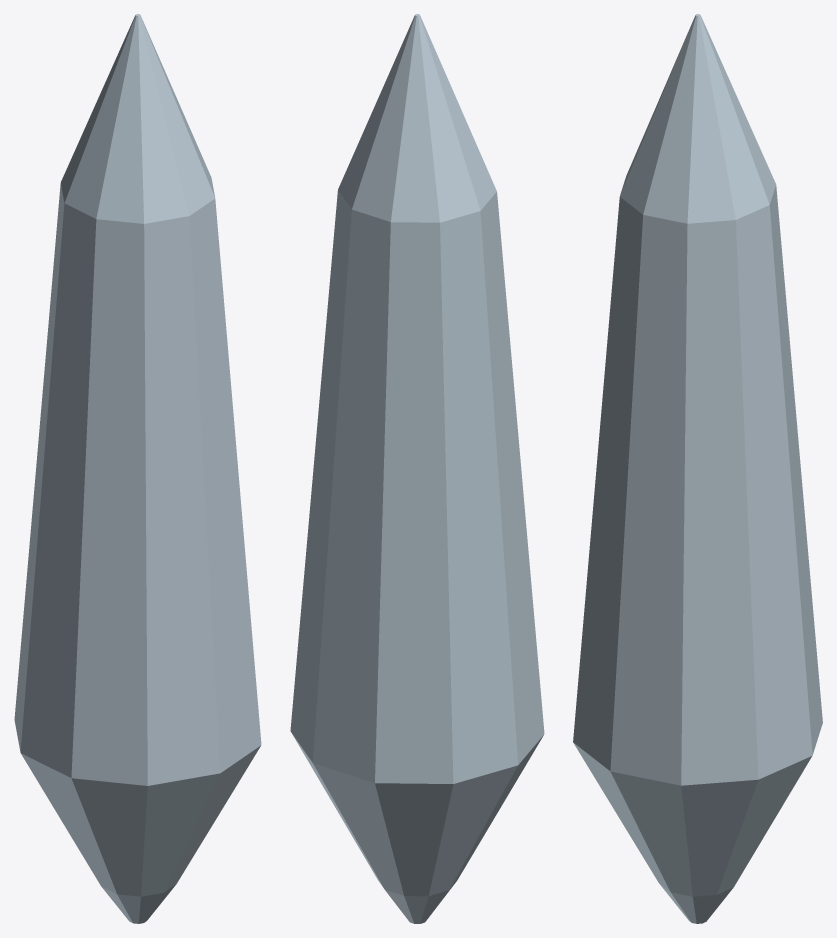
File: crystal.fbx
3 renders of one model, left to right at view 1: azimuth 30°, elevation 25°; view 2: azimuth 150°, elevation 25°; view 3: azimuth 270°, elevation 25°, orthographic.
Visible parts, largest first — view 1: Crystal; view 2: Crystal; view 3: Crystal.
Part boxes in pixels (x1,y1,x2,y2): Crystal: (14,14,261,923); Crystal: (290,14,544,923); Crystal: (573,14,822,923).
Bounding box in the file's own units: 0.4639 × 1.84 × 0.4602.
